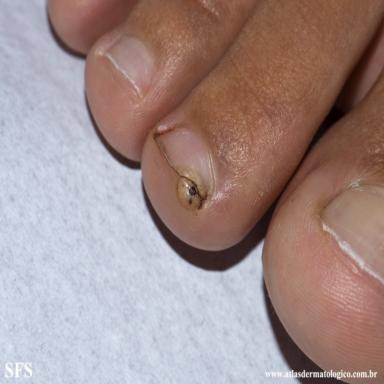Tungiasis: (177, 177, 205, 210)
